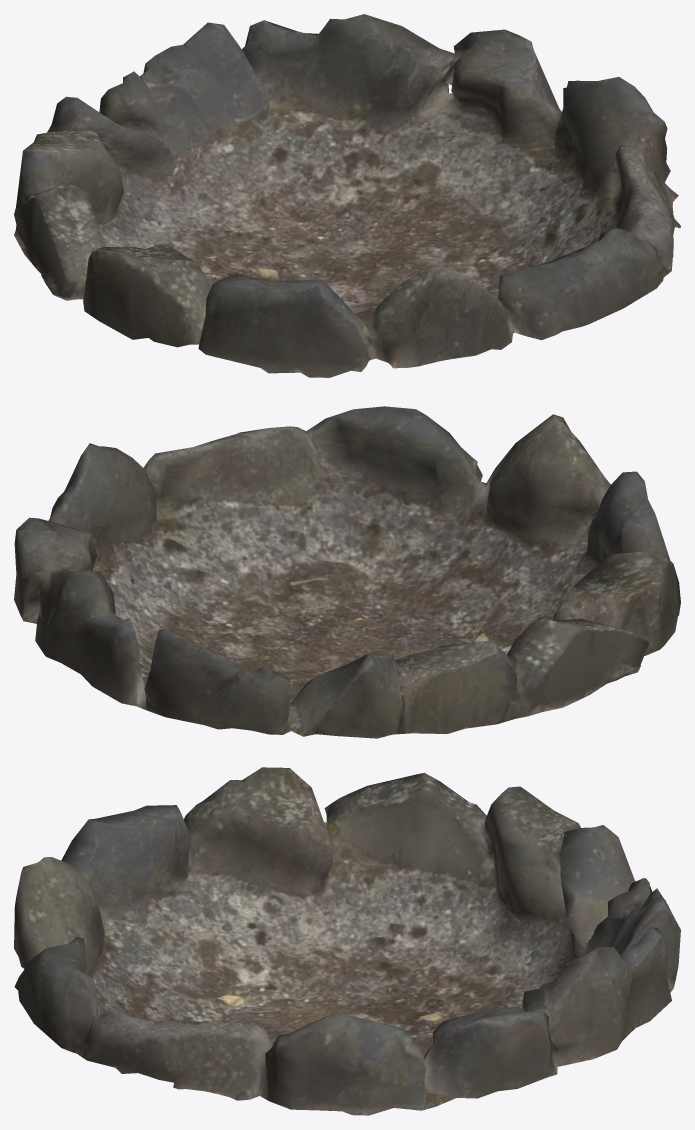
Rendered from ph-stone_fire_pit.glb.
3 renders of one model, top to bottom at view 1: azimuth 30°, elevation 25°; view 2: azimuth 150°, elevation 25°; view 3: azimuth 270°, elevation 25°, orthographic.
Parts seen in each view (by area): view 1: stone_fire_pit; view 2: stone_fire_pit; view 3: stone_fire_pit.
Boxes of the visible parts, x1,y1,x2,y2 form: stone_fire_pit: (14, 14, 680, 377); stone_fire_pit: (14, 406, 680, 738); stone_fire_pit: (14, 767, 680, 1115).
Size of the model in its own units: 1.45 by 0.3883 by 1.43.
1 material, 1 textured.
